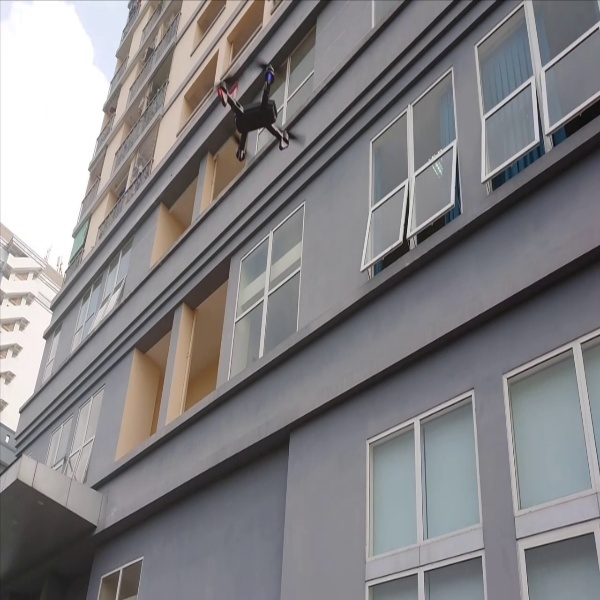drone: (208, 52, 310, 158)
